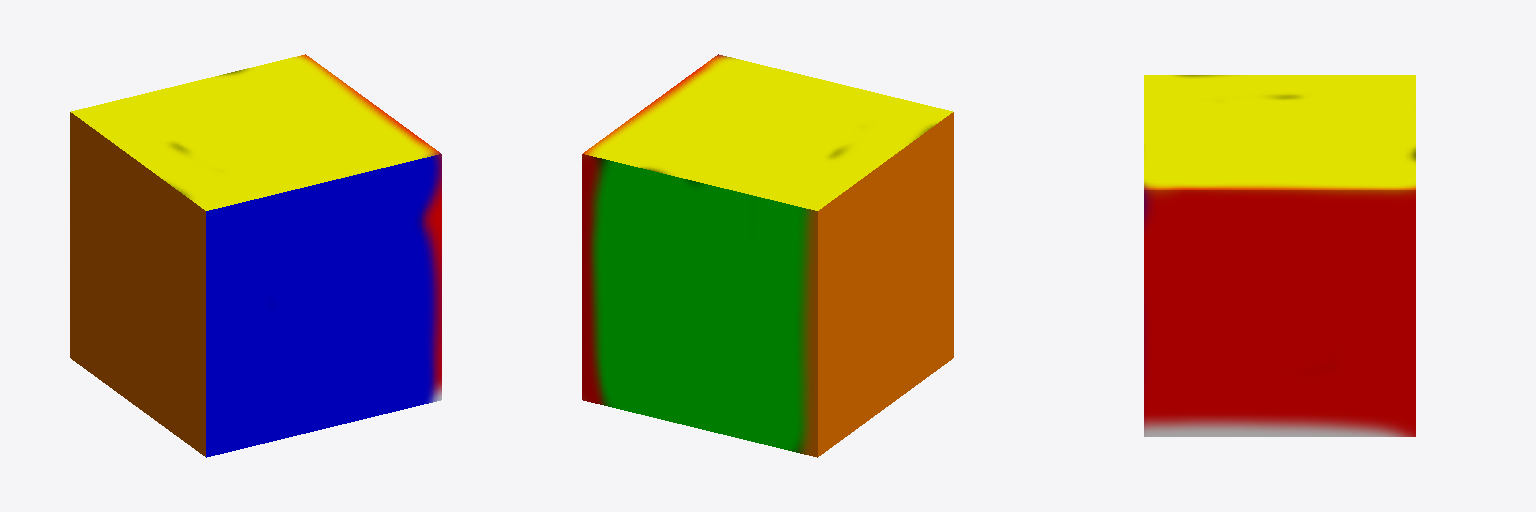
3 views of the same model, side by side, from view 1: azimuth 30°, elevation 25°; view 2: azimuth 150°, elevation 25°; view 3: azimuth 270°, elevation 25° (orthographic).
Parts seen in each view (by area): view 1: Cube; view 2: Cube; view 3: Cube.
Part boxes in pixels (x1,y1,x2,y2): Cube: (70, 54, 441, 457); Cube: (582, 54, 953, 457); Cube: (1144, 75, 1415, 436).
Size of the model in its own units: 2 by 2 by 2.
1 materials, 1 textured.